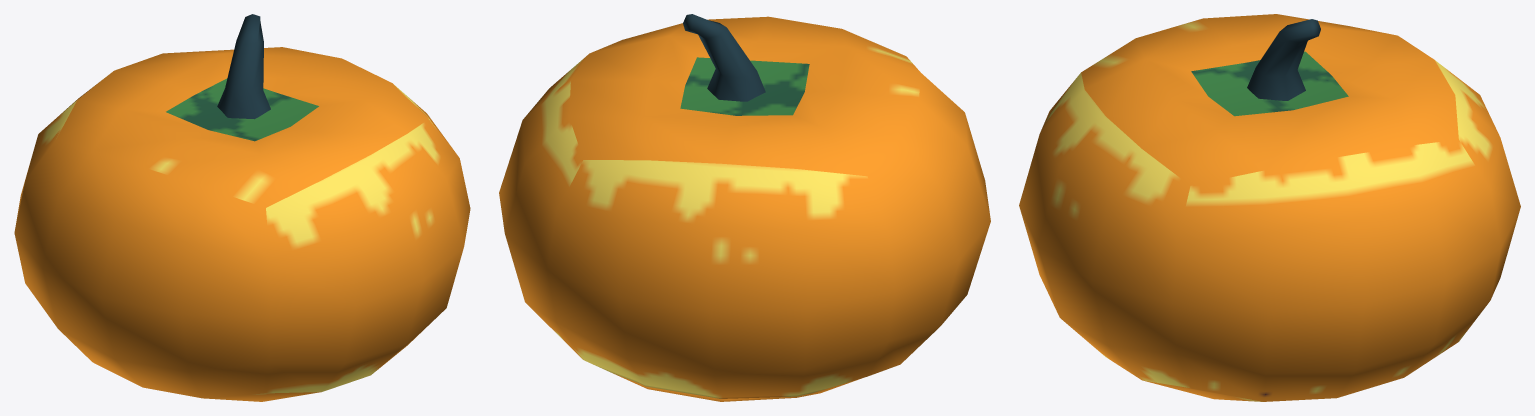
File: Abobora.fbx
3 views of the same model, side by side, from view 1: azimuth 30°, elevation 25°; view 2: azimuth 150°, elevation 25°; view 3: azimuth 270°, elevation 25° (orthographic). The views are drawn at different scales.
Visible parts, largest first — view 1: Abobora; view 2: Abobora; view 3: Abobora.
Part boxes in pixels (bbox=[...]): Abobora: bbox=[14, 14, 470, 401]; Abobora: bbox=[499, 14, 990, 401]; Abobora: bbox=[1019, 14, 1520, 401].
Size of the model in its own units: 135 by 135 by 108.
